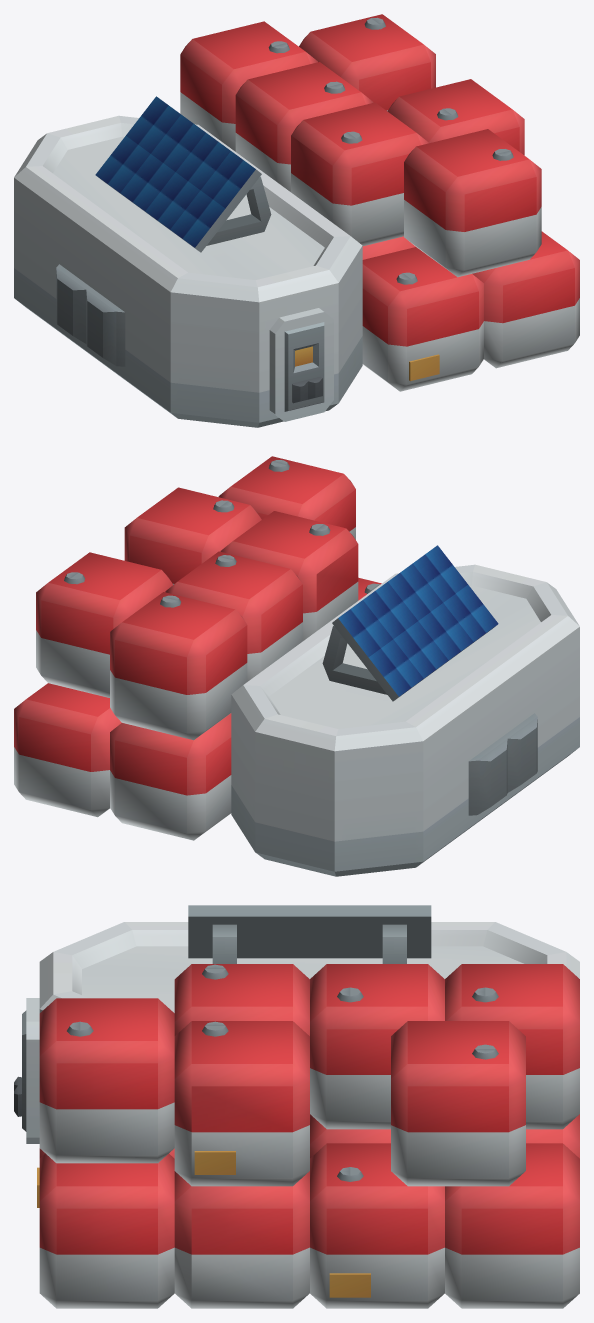
File: kaykit-space-base-bits-cargodepot-c.glb
3 views of the same model, one above another, from view 1: azimuth 30°, elevation 25°; view 2: azimuth 150°, elevation 25°; view 3: azimuth 270°, elevation 25° (orthographic). The views are drawn at different scales.
Parts seen in each view (by area): view 1: cargodepot_C; view 2: cargodepot_C; view 3: cargodepot_C.
Part boxes in pixels (x1,y1,x2,y2): cargodepot_C: (14, 14, 579, 427); cargodepot_C: (14, 456, 579, 876); cargodepot_C: (14, 905, 579, 1308).
Bounding box in the file's own units: 2.07 × 1.02 × 2.1.
1 material, 1 textured.
